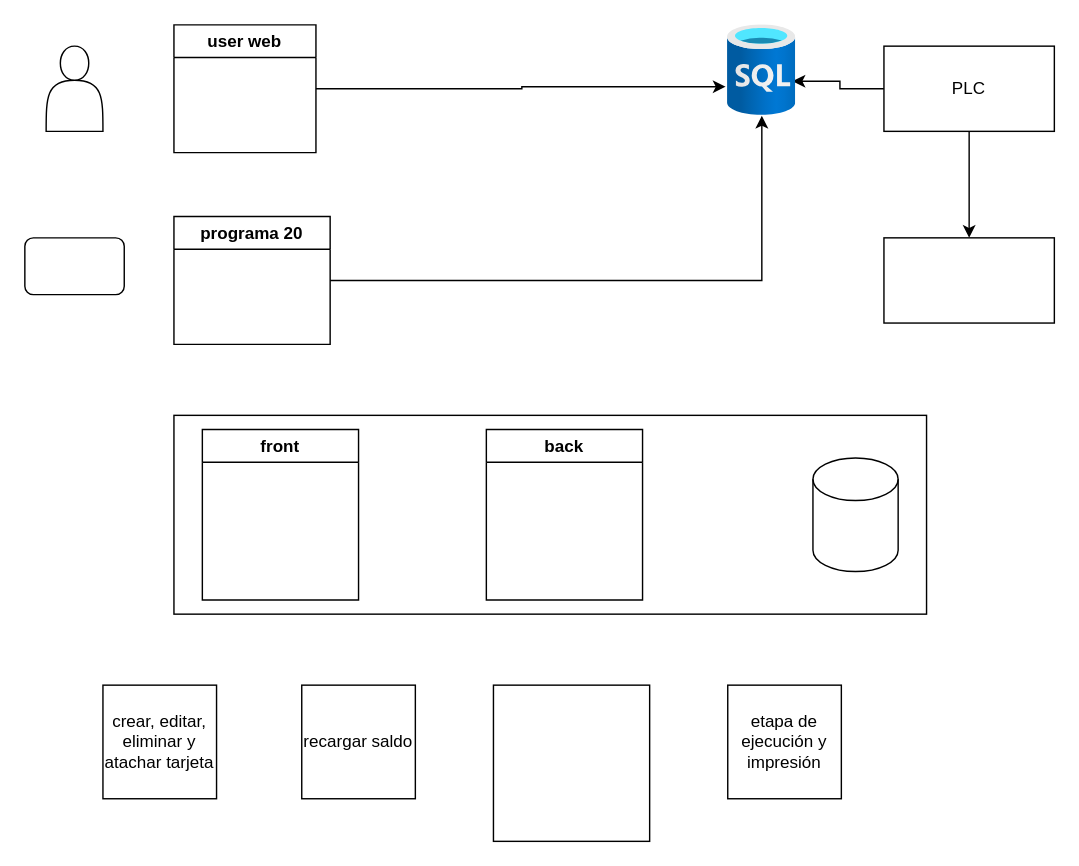
The diagram is 1079 pixels wide and 866 high, and some of its shapes have lost their labels. The centre of each missing label's shape, as x and y in pixels:
db: point (855, 514)
ejecución consultar saldo ejecutar proceso de PLC: point (571, 762)
rfid 20: point (73, 265)
valvula de agua: point (968, 279)
